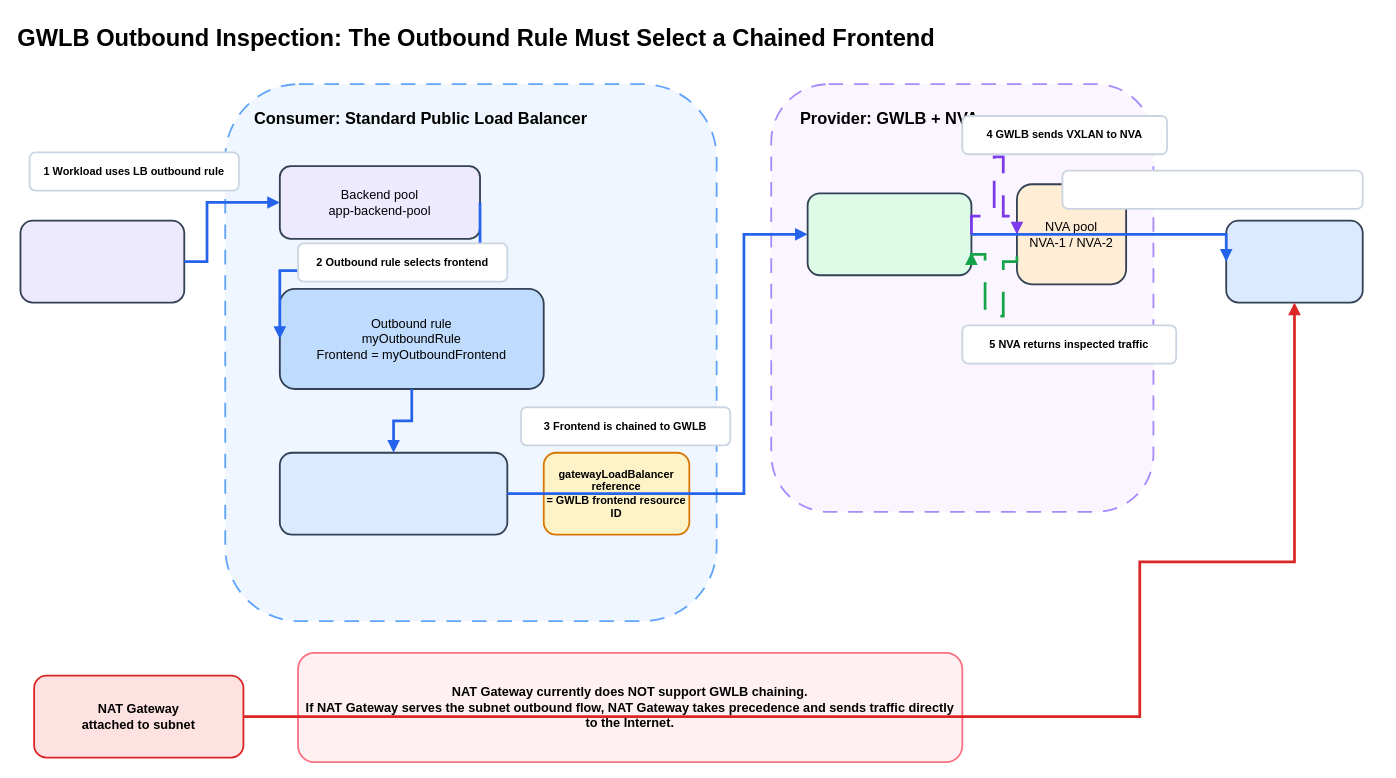
Some shapes in this 1396 by 778 pixel diagram are drawn without their labels. The centre of each missing label's shape, as x and y in pixels:
6 Consumer LB completes outbound SNAT / Internet egress: pixel 1212 189
Backend workload 10.0.1.4: pixel 102 261
Frontend IP configuration myOutboundFrontend: pixel 393 493
Gateway Load Balancer: pixel 889 234
Internet: pixel 1294 261
